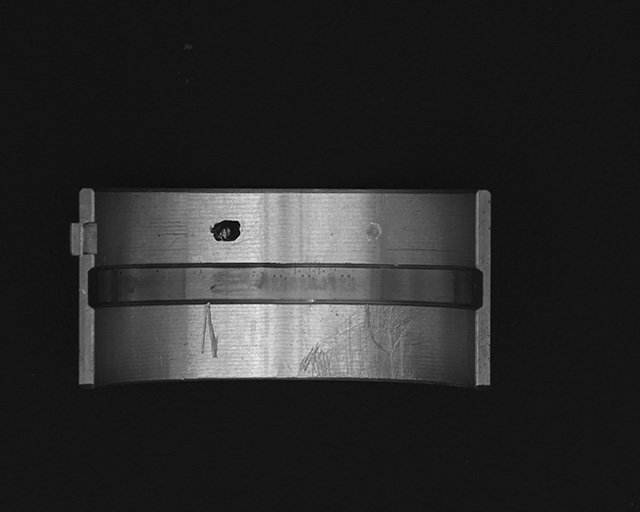blot: (209, 220, 242, 243)
bruise: (365, 221, 382, 244)
gap: (87, 264, 483, 309)
nick: (200, 302, 220, 359)
scratch: (299, 303, 424, 382)
